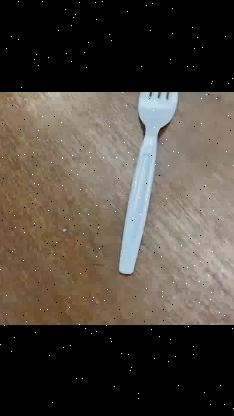Others: (118, 92, 176, 274)
